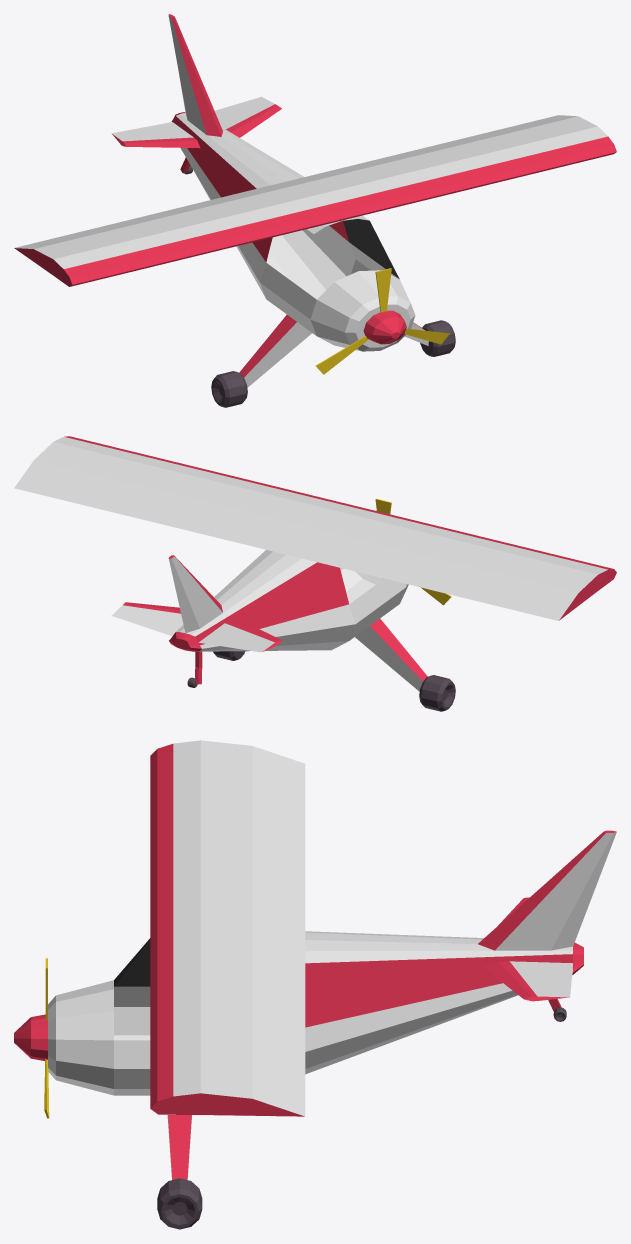
The model's file is airplane.fbx.
3 views of the same model, one above another, from view 1: azimuth 30°, elevation 25°; view 2: azimuth 150°, elevation 25°; view 3: azimuth 270°, elevation 25° (orthographic). The views are drawn at different scales.
Parts seen in each view (by area): view 1: wings, body, sidetails, tailwind, legs, wheels, Plane, turbine; view 2: wings, body, sidetails, tailwind, legs, wheels, Plane; view 3: wings, body, tailwind, sidetails, wheels, legs, turbine.
Boxes of the visible parts, bbox=[...] form: wings: bbox=[14, 115, 616, 286]; body: bbox=[171, 112, 415, 351]; sidetails: bbox=[111, 96, 281, 148]; tailwind: bbox=[168, 14, 222, 136]; legs: bbox=[239, 315, 428, 387]; wheels: bbox=[211, 320, 455, 407]; Plane: bbox=[315, 268, 449, 374]; turbine: bbox=[363, 310, 406, 344]; wings: bbox=[14, 436, 616, 620]; body: bbox=[169, 550, 408, 651]; sidetails: bbox=[111, 602, 281, 652]; tailwind: bbox=[168, 555, 222, 632]; legs: bbox=[355, 618, 427, 691]; wheels: bbox=[213, 651, 455, 711]; Plane: bbox=[375, 498, 451, 605]; wings: bbox=[150, 740, 305, 1116]; body: bbox=[48, 931, 583, 1095]; tailwind: bbox=[478, 830, 616, 950]; sidetails: bbox=[483, 897, 572, 1001]; wheels: bbox=[157, 1178, 202, 1229]; legs: bbox=[167, 1115, 191, 1179]; turbine: bbox=[14, 1014, 47, 1060].
Size of the model in its own units: 5.55 by 2.39 by 4.01.
